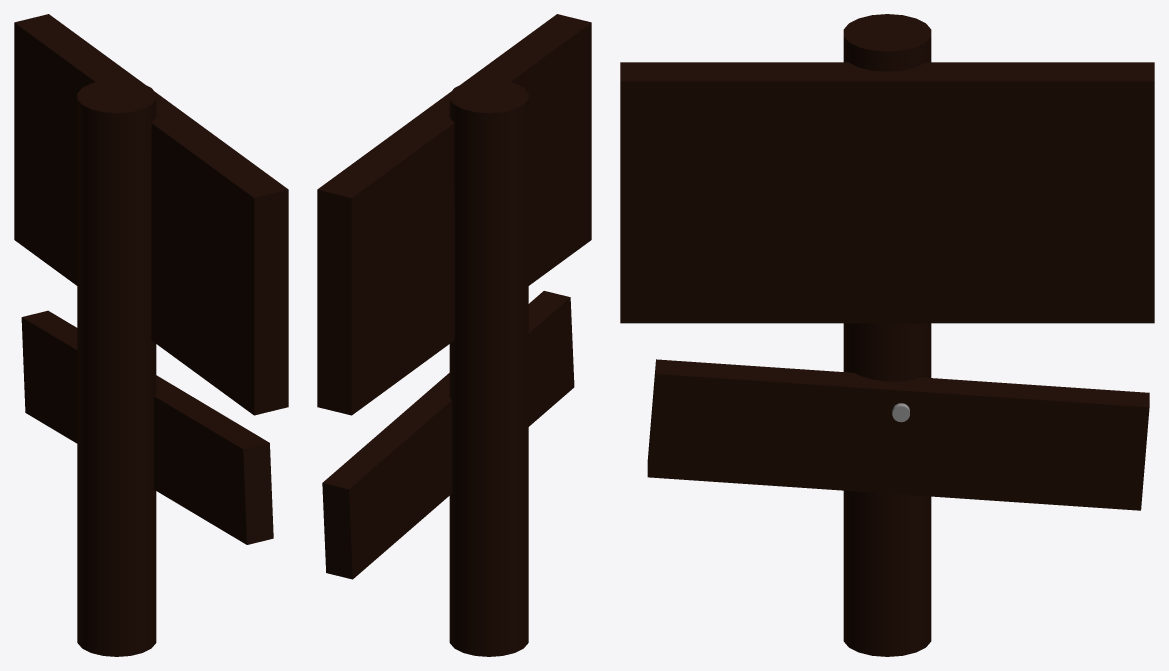
Rendered from SchilderNachher.FBX.
3 views of the same model, side by side, from view 1: azimuth 30°, elevation 25°; view 2: azimuth 150°, elevation 25°; view 3: azimuth 270°, elevation 25° (orthographic). The views are drawn at different scales.
Visible parts, largest first — view 1: Cylinder002, Box001; view 2: Cylinder002, Box001; view 3: Cylinder002, Box001.
Boxes of the visible parts, x1,y1,x2,y2 form: Cylinder002: [14, 14, 288, 656]; Box001: [21, 310, 273, 544]; Cylinder002: [317, 14, 591, 656]; Box001: [322, 291, 574, 579]; Cylinder002: [620, 14, 1154, 656]; Box001: [647, 359, 1149, 510].
Bounding box in the file's own units: 10.15 × 59.06 × 47.24.
